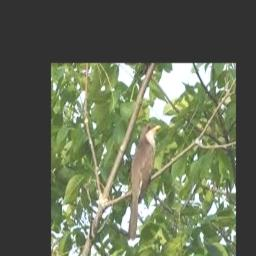Cuckoo: (128, 124, 162, 239)
